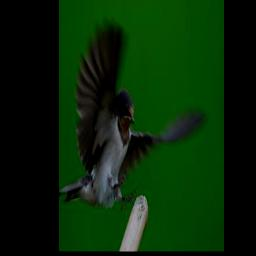Swallow: (62, 18, 205, 211)
